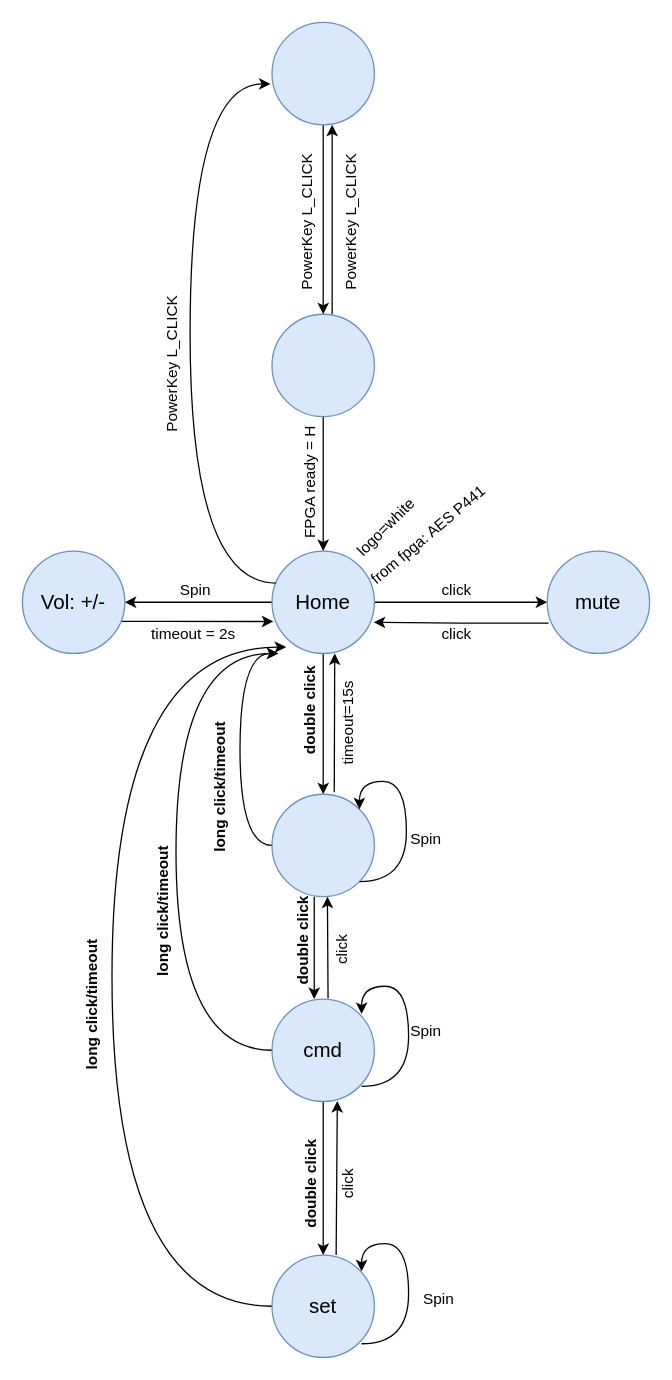
The diagram is 672 pixels wide and 1380 high, and some of its shapes have lost their labels. The centre of each missing label's shape, as x and y in pixels:
"menu" goes at point (322, 845).
"Poweroff" goes at point (322, 73).
"Poweron" goes at point (322, 365).
